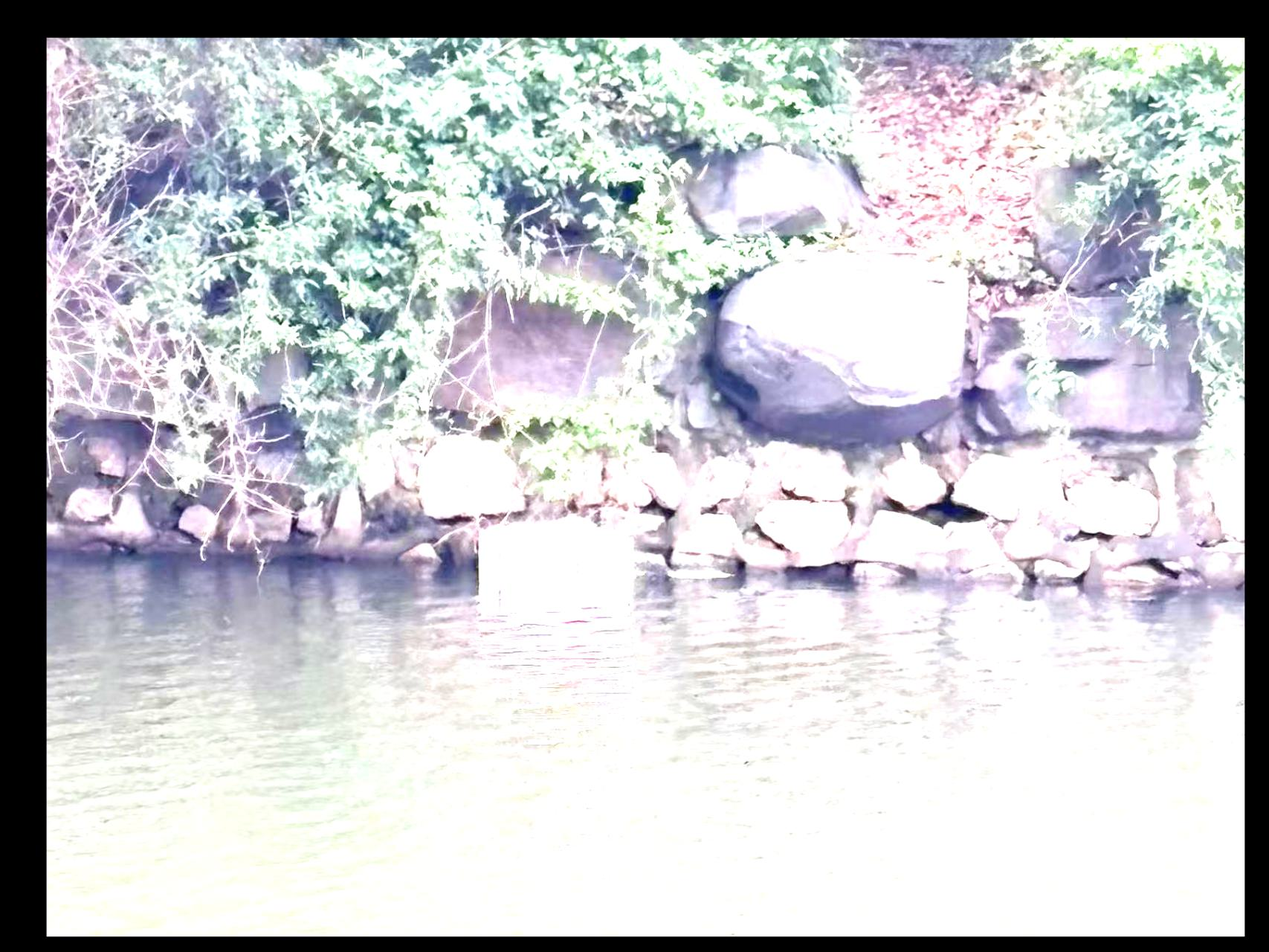Plastic wastes: (474, 524, 631, 599)
